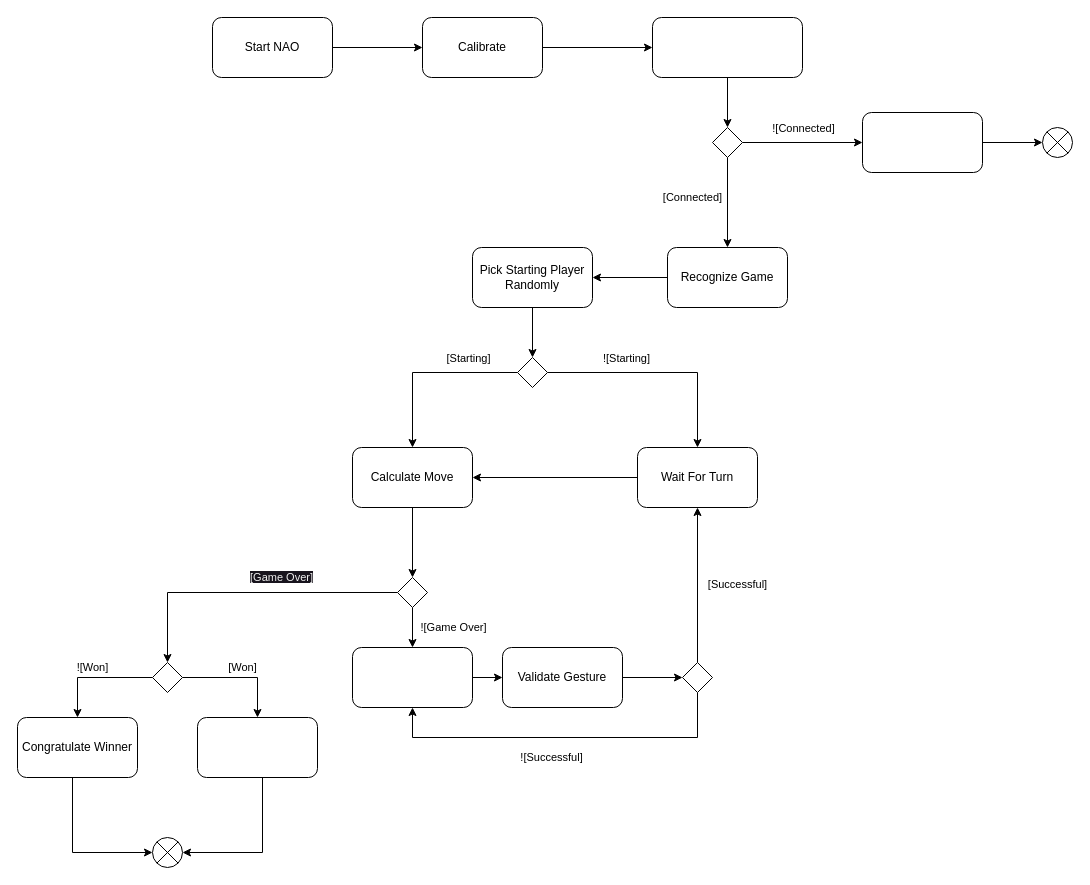
This 1090x885 diagram has some shape labels left out. Each missing label, with the centre of its shape:
JUBEL: (x=257, y=747)
Make Touch Gesture: (x=412, y=677)
Print Error Message: (x=922, y=142)
Start Python Script on NAO (via. IP and Port): (x=727, y=47)
